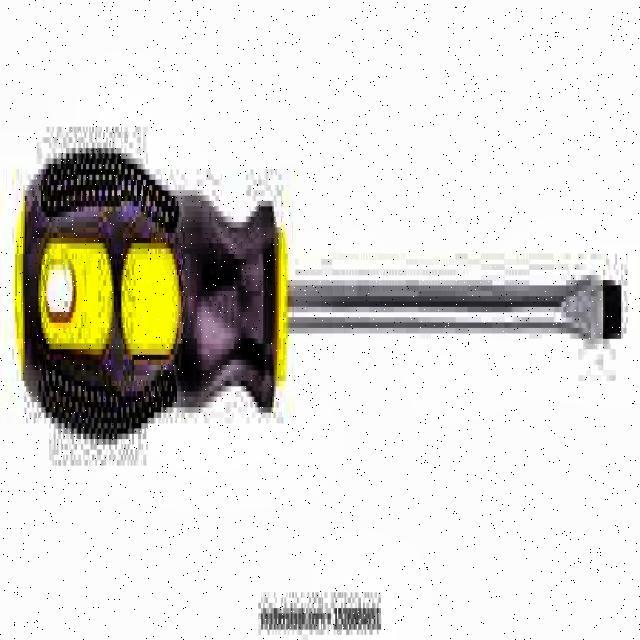screwdriver: (17, 146, 620, 444)
